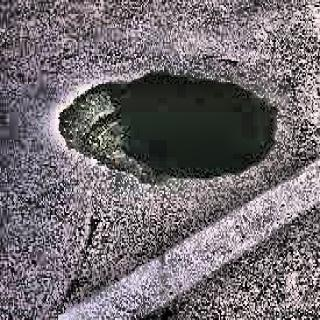pothole: (56, 58, 286, 186)
